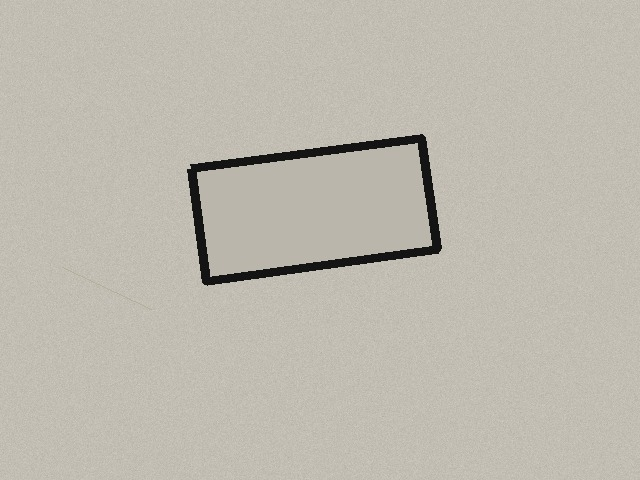parking_area: (191, 138, 437, 281)
